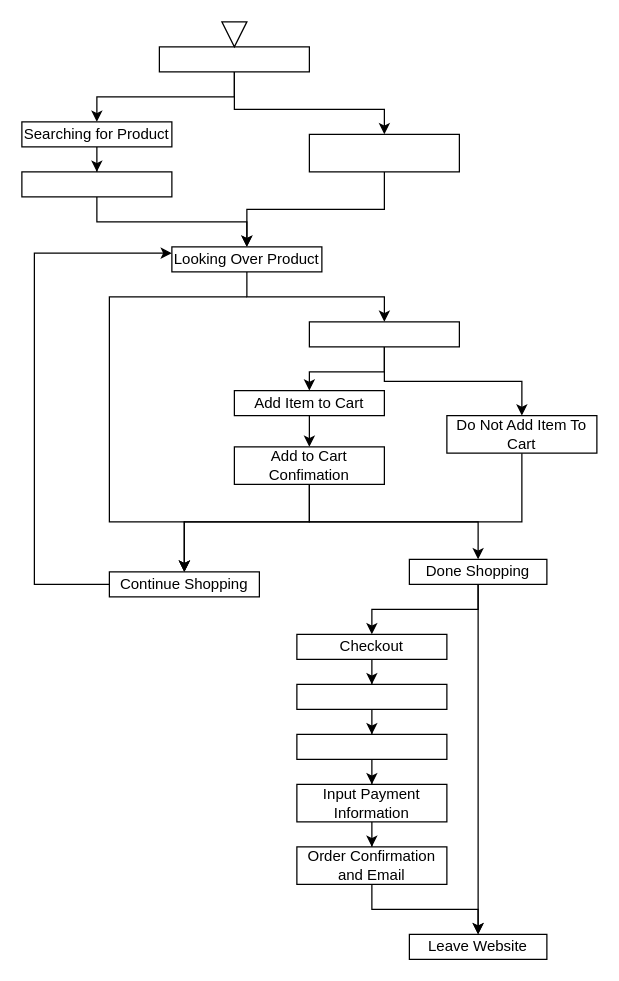
The diagram is 619 pixels wide and 981 high, and some of its shapes have lost their labels. Here are the shapes that lost their labels. From the top down, the centre of each, then its label:
(x=233, y=59): Entering the Website
(x=383, y=152): Exploring Projects on Homepage
(x=96, y=184): Provide Search Input
(x=383, y=334): View Specific Product
(x=371, y=696): View Cart
(x=371, y=746): View Payment
